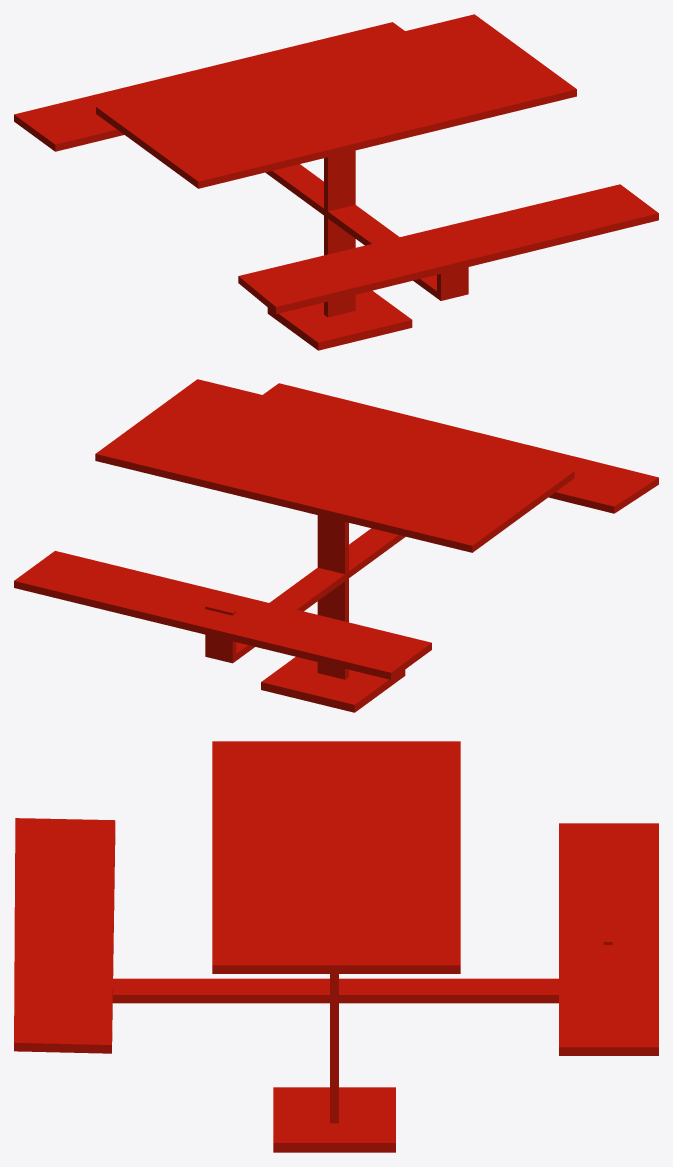
File: UCX_table_prison_wood.fbx
The picture shows the model from 3 angles, top to bottom: view 1: azimuth 30°, elevation 25°; view 2: azimuth 150°, elevation 25°; view 3: azimuth 270°, elevation 25°; orthographic projection. The views are drawn at different scales.
Parts seen in each view (by area): view 1: UCX_table_prison_wood; view 2: UCX_table_prison_wood; view 3: UCX_table_prison_wood.
Boxes of the visible parts, x1=… form: UCX_table_prison_wood: x1=14, y1=14, x2=658, y2=350; UCX_table_prison_wood: x1=14, y1=379, x2=658, y2=712; UCX_table_prison_wood: x1=14, y1=741, x2=658, y2=1152.
Bounding box in the file's own units: 1.31 × 0.7285 × 1.58.
